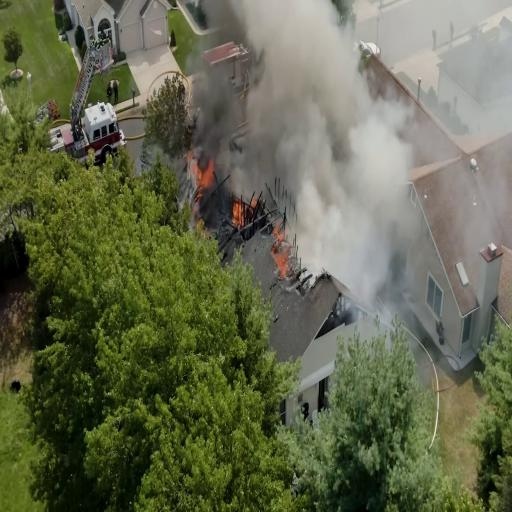smoke: (312, 94, 382, 281), (261, 6, 311, 158)
